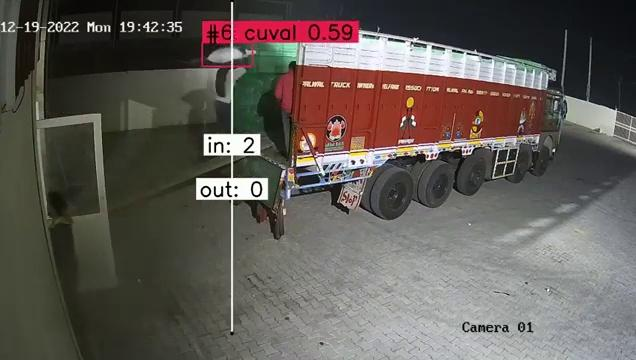karung: (204, 45, 251, 64)
